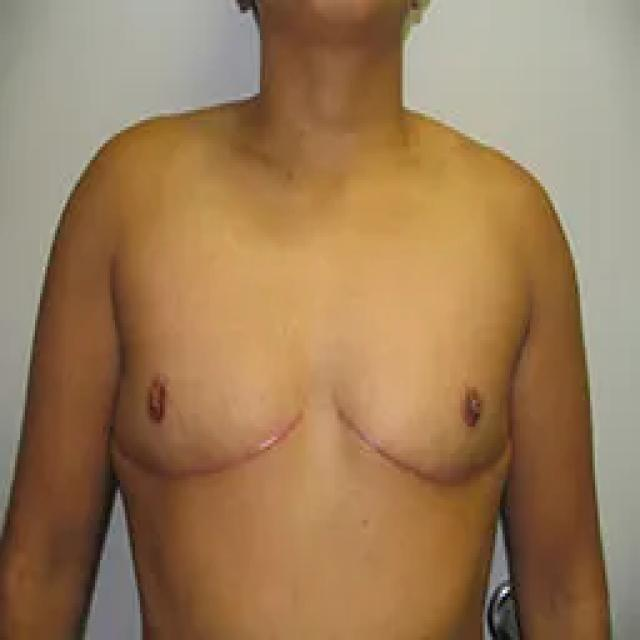Seno herido: (317, 287, 520, 512), (110, 285, 309, 514)
